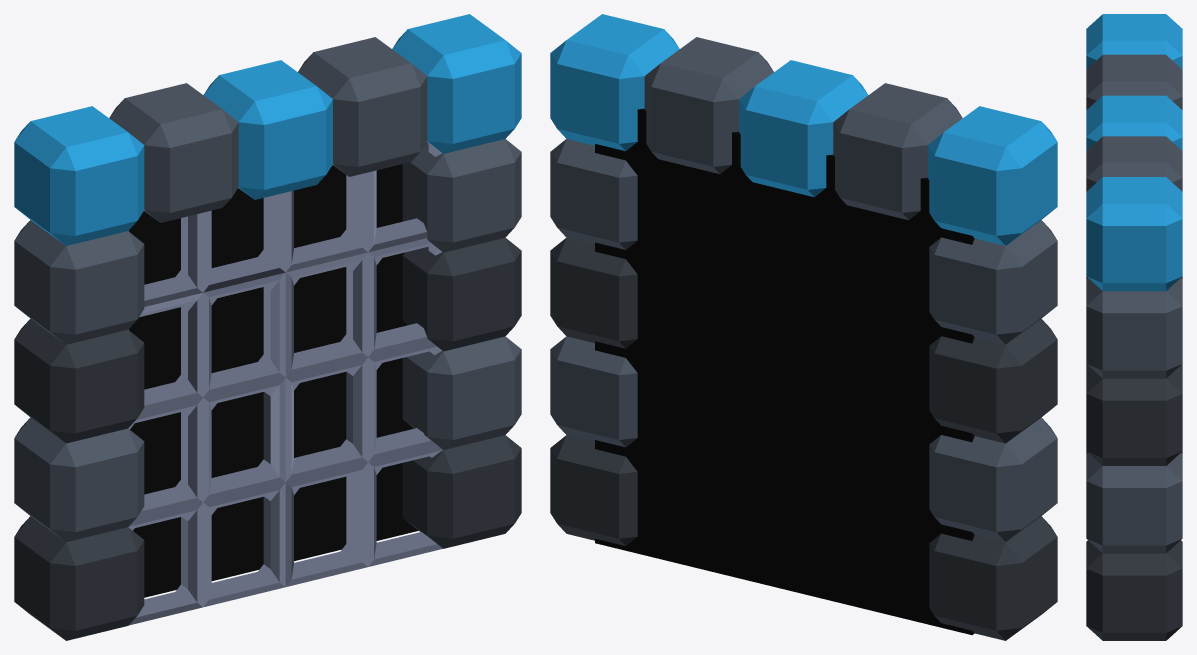
The model's file is gate.glb.
The picture shows the model from 3 angles, left to right: view 1: azimuth 30°, elevation 25°; view 2: azimuth 150°, elevation 25°; view 3: azimuth 270°, elevation 25°; orthographic projection. The views are drawn at different scales.
Visible parts, largest first — view 1: Brick, Gate, Darkness, Glowing_Brick; view 2: Darkness, Brick, Glowing_Brick; view 3: Brick, Glowing_Brick.
Boxes of the visible parts, box(x1,y1,x2,y2) form: Brick: box(14, 37, 521, 640); Gate: box(128, 141, 442, 625); Darkness: box(129, 164, 418, 597); Glowing_Brick: box(14, 14, 521, 245); Darkness: box(595, 108, 974, 634); Brick: box(550, 37, 1057, 640); Glowing_Brick: box(550, 14, 1057, 245); Brick: box(1086, 54, 1182, 640); Glowing_Brick: box(1086, 14, 1182, 291).
Size of the model in its own units: 2 by 2 by 0.4.
1 material, 1 textured.
